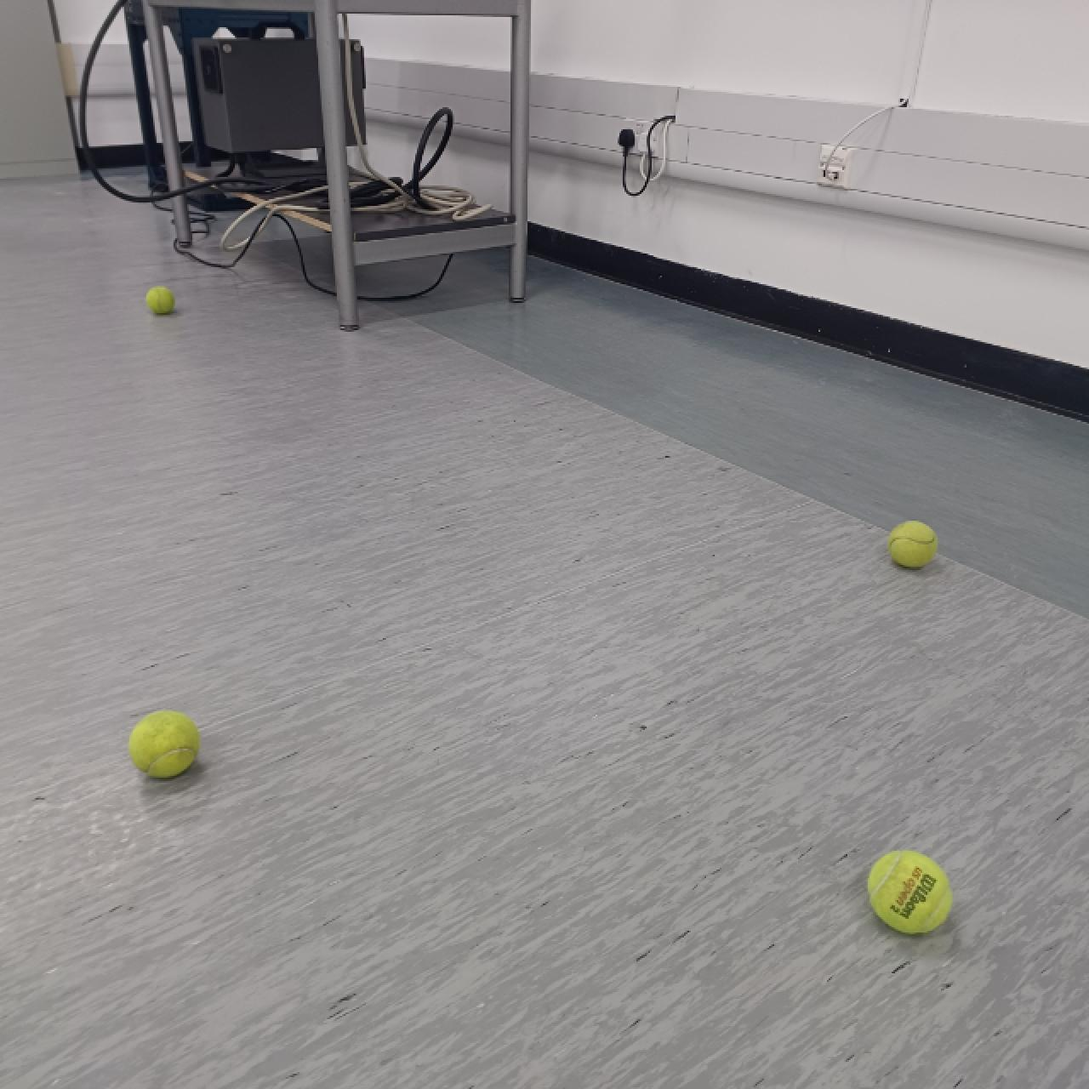tennis-ball: (866, 847, 953, 937), (129, 709, 199, 779), (887, 519, 939, 570), (146, 286, 177, 315)
